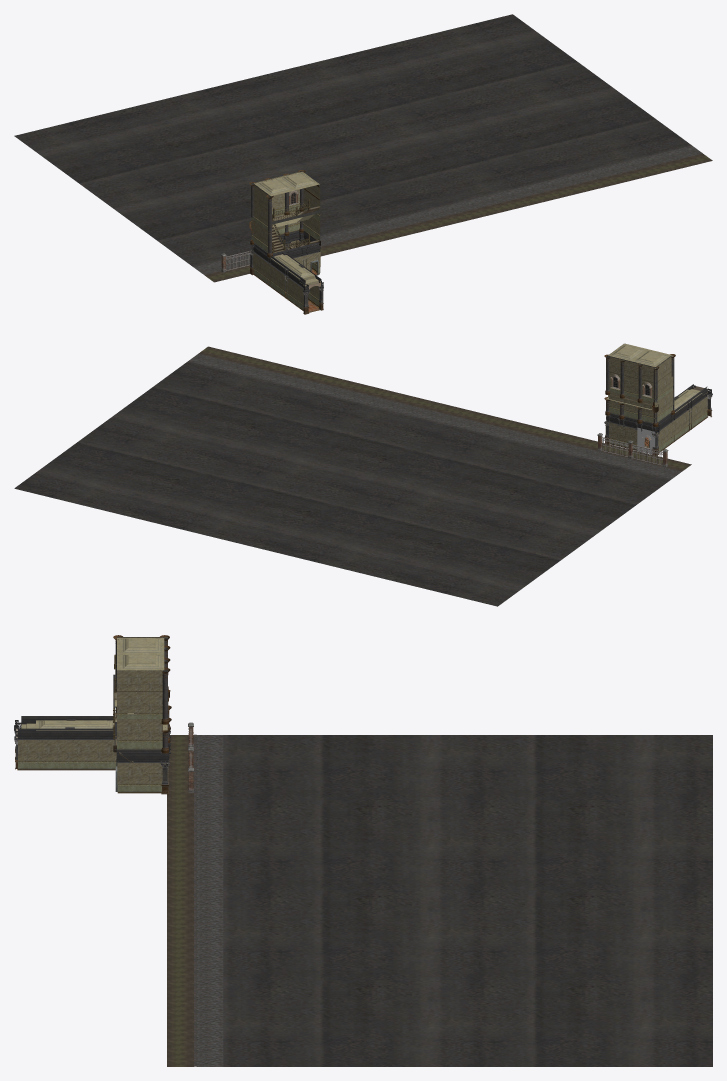
The model's file is st4_216_0_terrain_00ms.fbx.
3 renders of one model, top to bottom at view 1: azimuth 30°, elevation 25°; view 2: azimuth 150°, elevation 25°; view 3: azimuth 270°, elevation 25°, orthographic. The views are drawn at different scales.
Parts seen in each view (by area): view 1: LOD_1_Group_0_Sub_5__st1_townAsphalt00_Mat, LOD_1_Group_0_Sub_6__st2_police1fLeftWall04, LOD_1_Group_0_Sub_4__st1_townGround02_Mat, LOD_1_Group_0_Sub_3__st1_townGround01_Mat, LOD_1_Group_0_Sub_8__st2_police1fLeftCeiling05, LOD_1_Group_0_Sub_11__st2_police1fLeftPillar02, LOD_1_Group_0_Sub_15__st2_police1fLeftStairs01; view 2: LOD_1_Group_0_Sub_5__st1_townAsphalt00_Mat, LOD_1_Group_0_Sub_6__st2_police1fLeftWall04, LOD_1_Group_0_Sub_4__st1_townGround02_Mat, LOD_1_Group_0_Sub_3__st1_townGround01_Mat, LOD_1_Group_0_Sub_11__st2_police1fLeftPillar02, LOD_1_Group_0_Sub_8__st2_police1fLeftCeiling05, LOD_1_Group_0_Sub_18__st1_townPoliceFence01_Mat; view 3: LOD_1_Group_0_Sub_5__st1_townAsphalt00_Mat, LOD_1_Group_0_Sub_6__st2_police1fLeftWall04, LOD_1_Group_0_Sub_4__st1_townGround02_Mat, LOD_1_Group_0_Sub_3__st1_townGround01_Mat, LOD_1_Group_0_Sub_8__st2_police1fLeftCeiling05, LOD_1_Group_0_Sub_11__st2_police1fLeftPillar02.
Boxes of the visible parts, <box> form: LOD_1_Group_0_Sub_5__st1_townAsphalt00_Mat: <box>14,14,691,267</box>; LOD_1_Group_0_Sub_6__st2_police1fLeftWall04: <box>251,171,321,310</box>; LOD_1_Group_0_Sub_4__st1_townGround02_Mat: <box>194,145,702,274</box>; LOD_1_Group_0_Sub_3__st1_townGround01_Mat: <box>204,153,712,282</box>; LOD_1_Group_0_Sub_8__st2_police1fLeftCeiling05: <box>254,172,320,286</box>; LOD_1_Group_0_Sub_11__st2_police1fLeftPillar02: <box>249,170,323,314</box>; LOD_1_Group_0_Sub_15__st2_police1fLeftStairs01: <box>272,199,310,253</box>; LOD_1_Group_0_Sub_5__st1_townAsphalt00_Mat: <box>14,361,671,606</box>; LOD_1_Group_0_Sub_6__st2_police1fLeftWall04: <box>605,344,707,452</box>; LOD_1_Group_0_Sub_4__st1_townGround02_Mat: <box>188,353,681,479</box>; LOD_1_Group_0_Sub_3__st1_townGround01_Mat: <box>199,346,691,471</box>; LOD_1_Group_0_Sub_11__st2_police1fLeftPillar02: <box>604,354,712,456</box>; LOD_1_Group_0_Sub_8__st2_police1fLeftCeiling05: <box>608,343,706,412</box>; LOD_1_Group_0_Sub_18__st1_townPoliceFence01_Mat: <box>601,437,663,465</box>; LOD_1_Group_0_Sub_5__st1_townAsphalt00_Mat: <box>223,735,712,1066</box>; LOD_1_Group_0_Sub_6__st2_police1fLeftWall04: <box>18,637,168,793</box>; LOD_1_Group_0_Sub_4__st1_townGround02_Mat: <box>194,734,223,1066</box>; LOD_1_Group_0_Sub_3__st1_townGround01_Mat: <box>167,735,193,1066</box>; LOD_1_Group_0_Sub_8__st2_police1fLeftCeiling05: <box>21,638,164,730</box>; LOD_1_Group_0_Sub_11__st2_police1fLeftPillar02: <box>14,635,171,794</box>.
Bounding box in the file's own units: 79.43 × 14.06 × 70.68.
